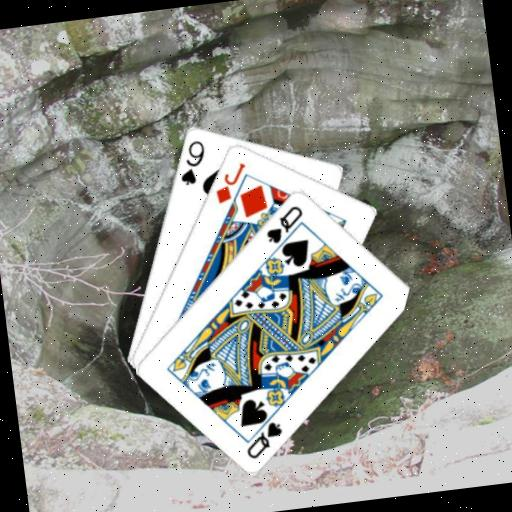9S: (173, 136, 210, 188)
JD: (209, 158, 251, 205)
QS: (260, 201, 308, 246), (240, 417, 287, 461)
